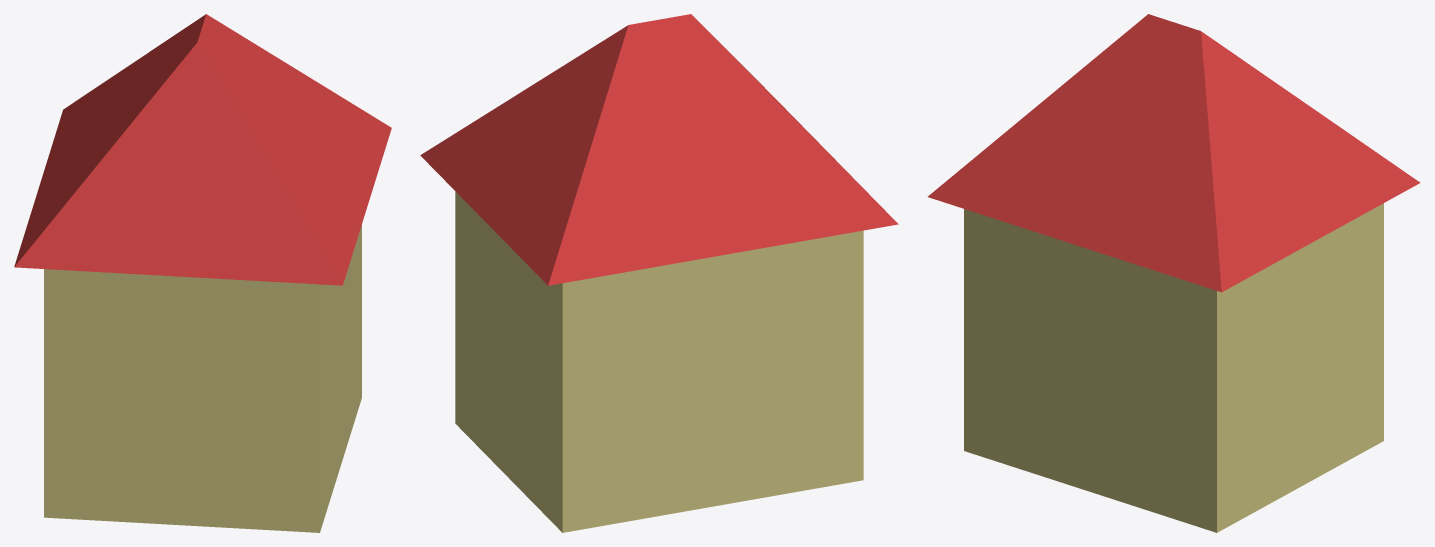
3 renders of one model, left to right at view 1: azimuth 30°, elevation 25°; view 2: azimuth 150°, elevation 25°; view 3: azimuth 270°, elevation 25°, orthographic. The views are drawn at different scales.
Parts seen in each view (by area): view 1: group_5, group_3, group_4; view 2: group_5, group_3, group_4; view 3: group_5, group_3, group_4.
Part boxes in pixels (left/top/right/bottom): group_5: left=44, top=225, right=361, bottom=532; group_3: left=14, top=14, right=384, bottom=285; group_4: left=15, top=94, right=391, bottom=285; group_5: left=455, top=191, right=863, bottom=532; group_3: left=456, top=14, right=898, bottom=285; group_4: left=420, top=133, right=882, bottom=284; group_5: left=964, top=203, right=1383, bottom=532; group_3: left=929, top=14, right=1420, bottom=290; group_4: left=927, top=168, right=1419, bottom=292.
Bounding box in the file's own units: 13.89 × 14.13 × 13.37.
